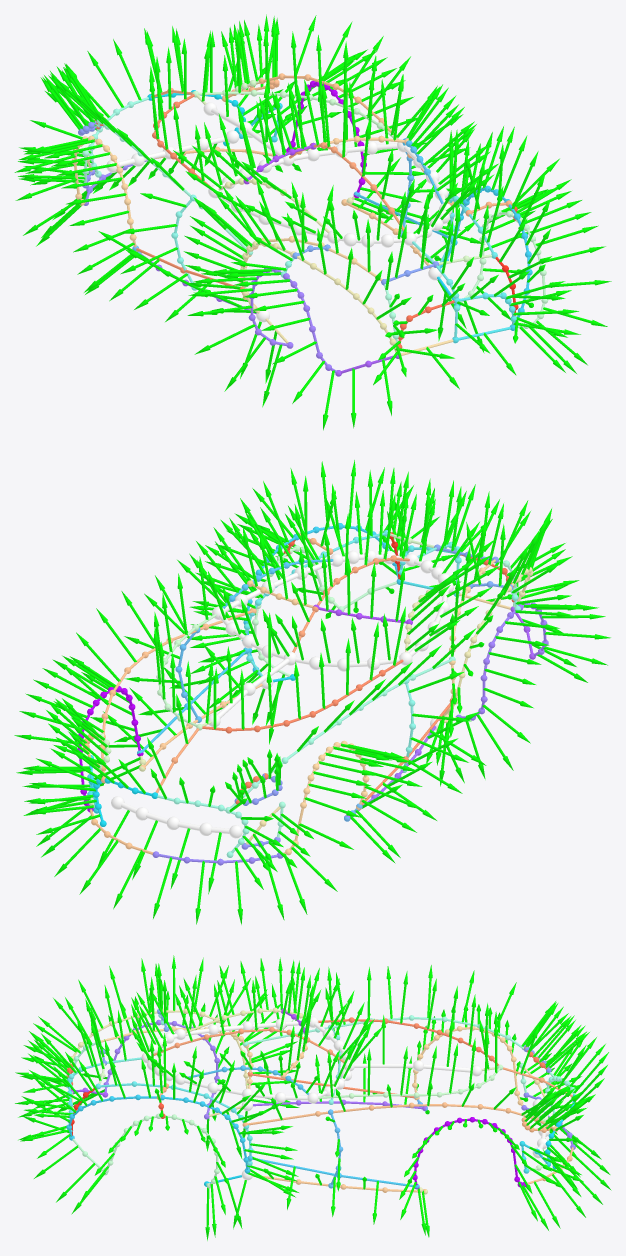
File: ils_roadster.gltf
3 renders of one model, top to bottom at view 1: azimuth 30°, elevation 25°; view 2: azimuth 150°, elevation 25°; view 3: azimuth 270°, elevation 25°, orthographic. The views are drawn at different scales.
Bounding box in the file's own units: 0.5898 × 0.422 × 1.05.
